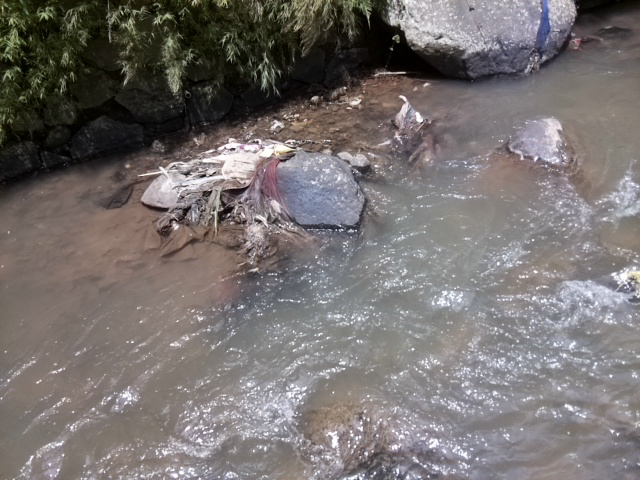Sampah_Plastik: (159, 136, 295, 250)
